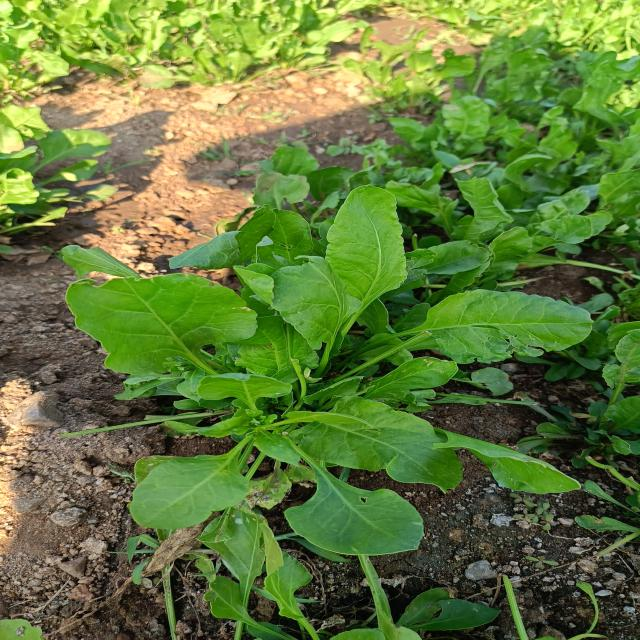leaves: (23, 226, 283, 418), (232, 408, 442, 559), (304, 170, 417, 389), (368, 396, 588, 507), (290, 389, 477, 510), (388, 285, 594, 394), (129, 425, 276, 549), (223, 253, 349, 390), (358, 350, 480, 415), (172, 362, 292, 427), (366, 344, 368, 355)
